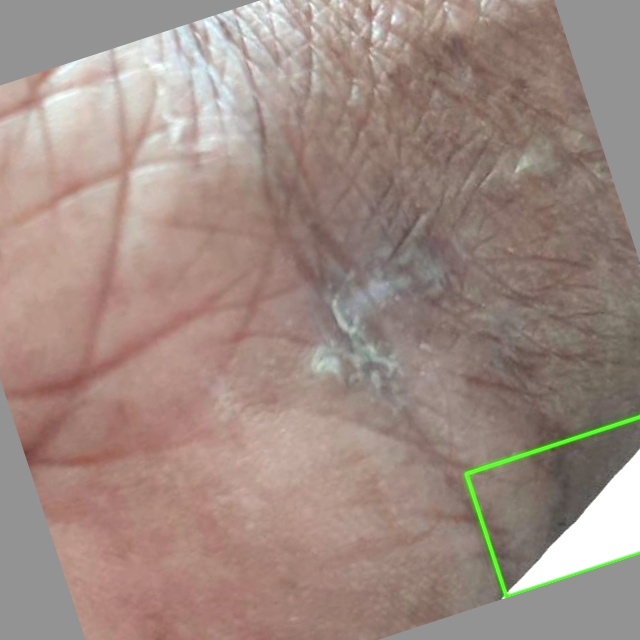Scabies: (466, 416, 639, 596)
